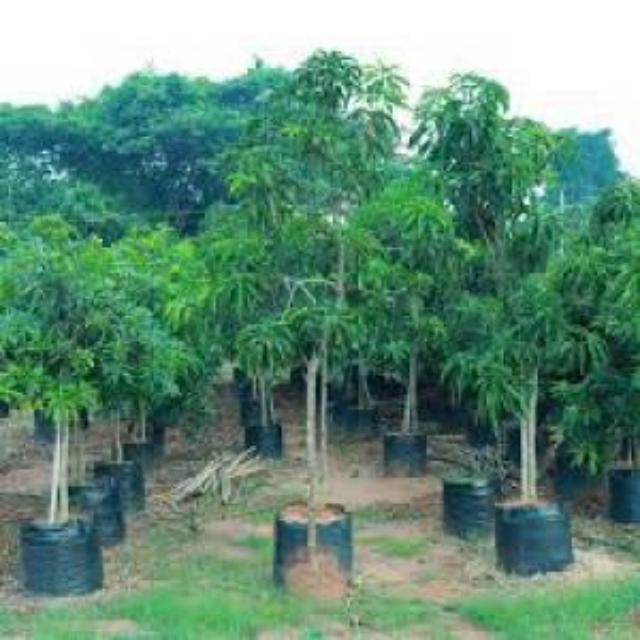tree: (13, 46, 635, 614)
